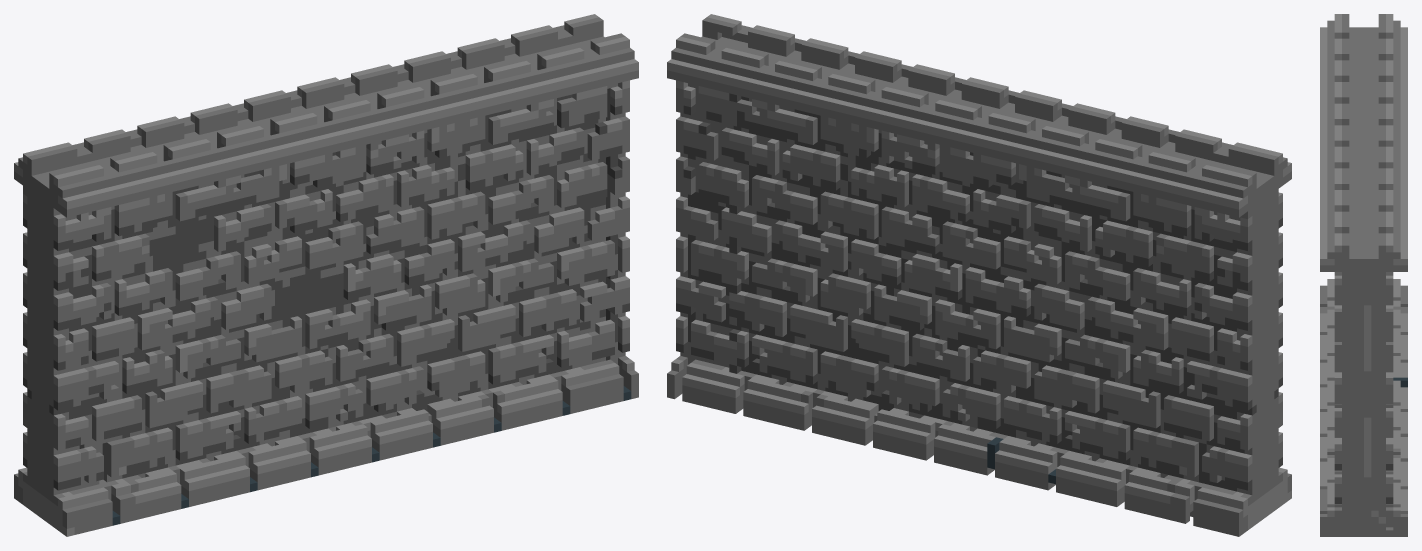
The model's file is wall_E_solo_pared.obj.
3 renders of one model, left to right at view 1: azimuth 30°, elevation 25°; view 2: azimuth 150°, elevation 25°; view 3: azimuth 270°, elevation 25°, orthographic. The views are drawn at different scales.
Bounding box in the file's own units: 75 × 44 × 12.
Materials: 1 (1 with a texture image).
